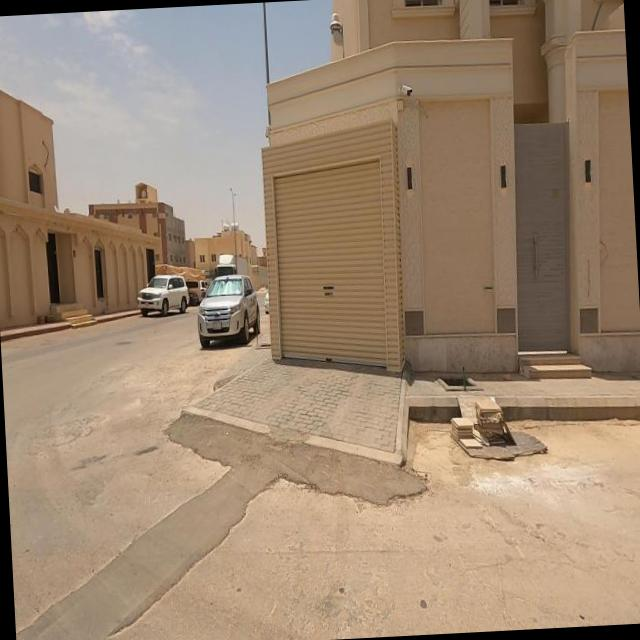debris: (409, 350, 577, 516)
